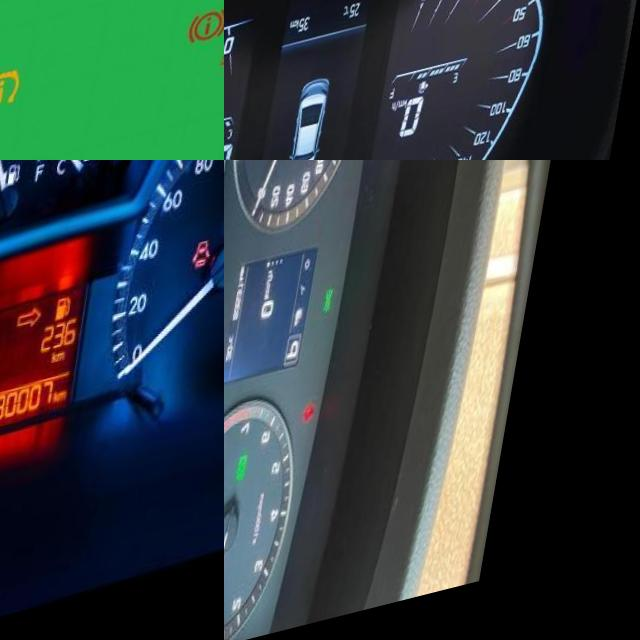Seat Belt: (316, 420, 331, 442)
